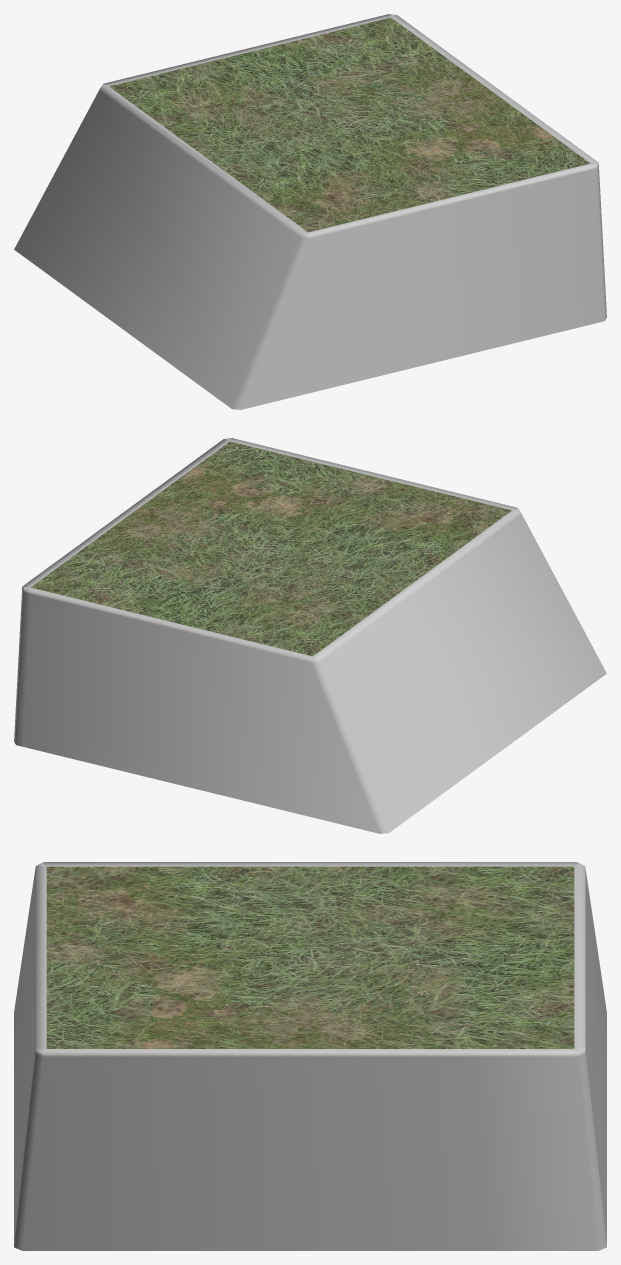
Rendered from JpHouseJ_StoneWall_10d.fbx.
The picture shows the model from 3 angles, top to bottom: view 1: azimuth 30°, elevation 25°; view 2: azimuth 150°, elevation 25°; view 3: azimuth 270°, elevation 25°; orthographic projection. The views are drawn at different scales.
Visible parts, largest first — view 1: JpHouseJ_StoneWall_10d; view 2: JpHouseJ_StoneWall_10d; view 3: JpHouseJ_StoneWall_10d.
Boxes of the visible parts, box(x1,y1,x2,y2) form: JpHouseJ_StoneWall_10d: box(14, 14, 606, 409); JpHouseJ_StoneWall_10d: box(14, 438, 606, 833); JpHouseJ_StoneWall_10d: box(14, 862, 606, 1250).
Bounding box in the file's own units: 10.53 × 4 × 10.9.
